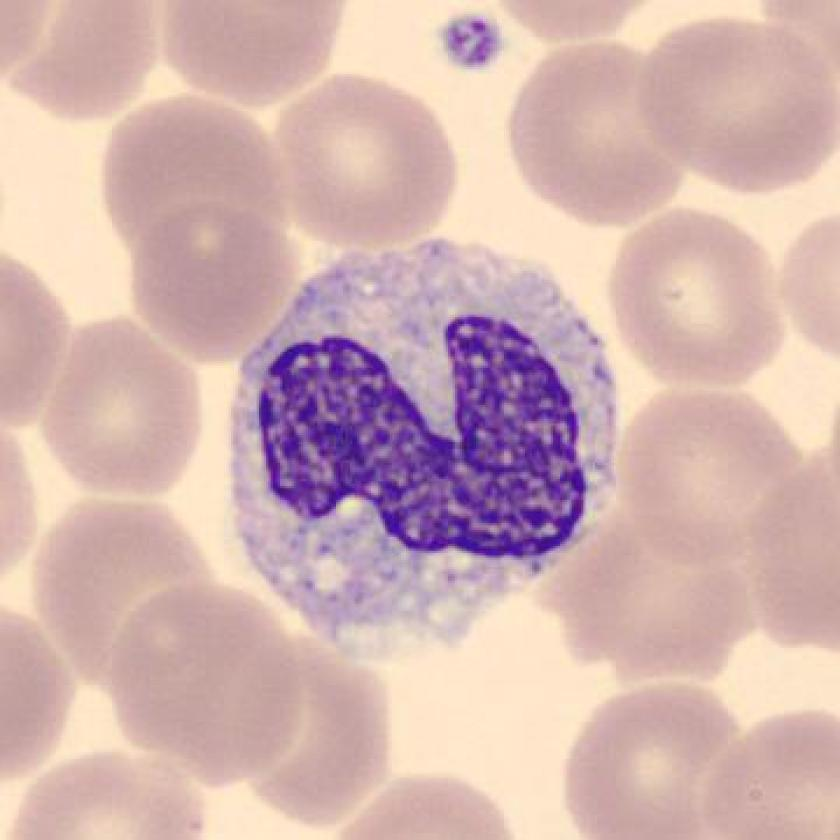monocyte: (202, 212, 638, 684)
